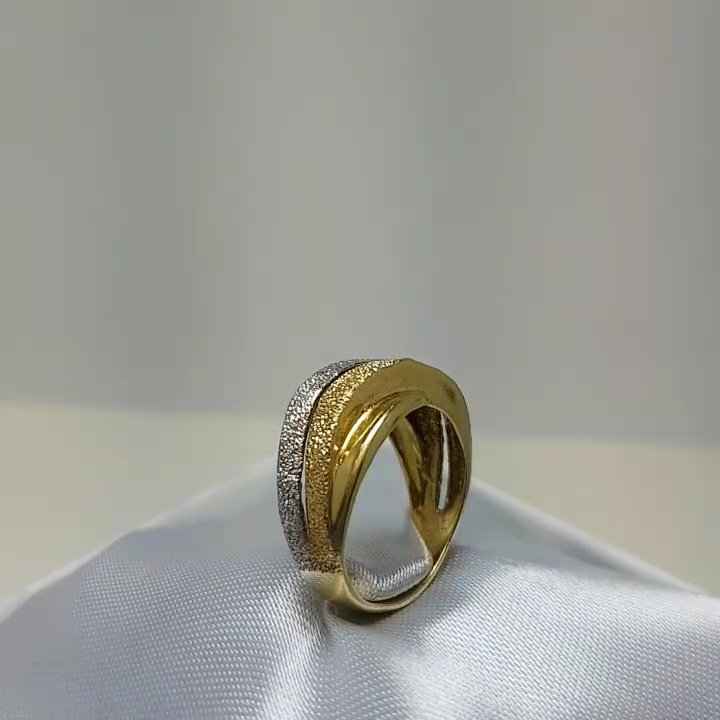Ring 5: (256, 347, 491, 627)
